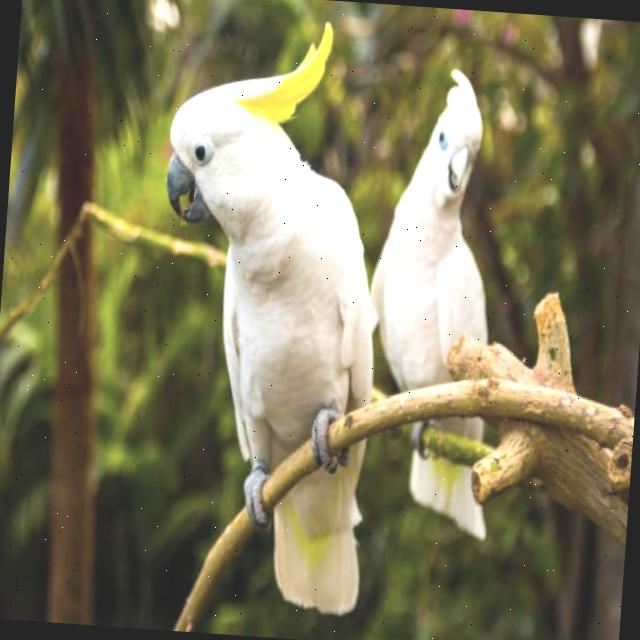Kakatua Putih: (130, 0, 408, 611), (346, 36, 555, 544)
